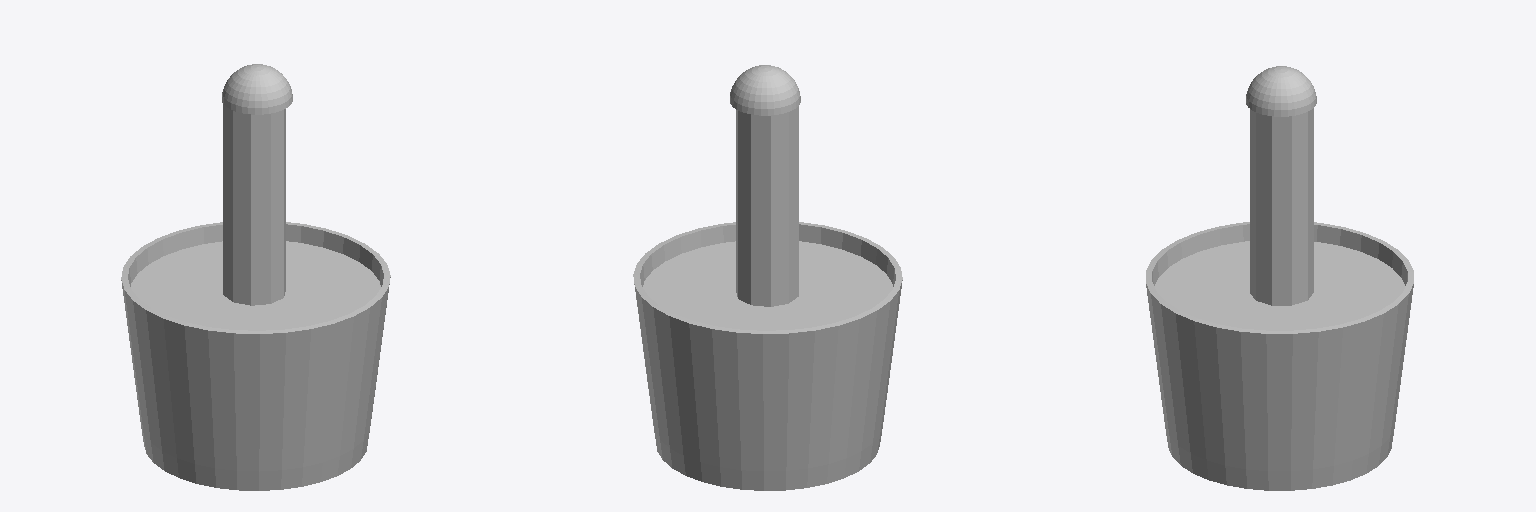
File: paparde.obj
3 renders of one model, left to right at view 1: azimuth 30°, elevation 25°; view 2: azimuth 150°, elevation 25°; view 3: azimuth 270°, elevation 25°, orthographic.
Visible parts, largest first — view 1: Cylinder.015_Cylinder.022, Cylinder.016_Cylinder.023, Sphere_Sphere.001; view 2: Cylinder.015_Cylinder.022, Cylinder.016_Cylinder.023, Sphere_Sphere.001; view 3: Cylinder.015_Cylinder.022, Cylinder.016_Cylinder.023, Sphere_Sphere.001.
Boxes of the visible parts, x1,y1,x2,y2 form: Cylinder.015_Cylinder.022: [121, 222, 390, 490]; Cylinder.016_Cylinder.023: [223, 104, 285, 305]; Sphere_Sphere.001: [222, 64, 292, 114]; Cylinder.015_Cylinder.022: [633, 222, 902, 490]; Cylinder.016_Cylinder.023: [736, 106, 798, 306]; Sphere_Sphere.001: [730, 65, 800, 115]; Cylinder.015_Cylinder.022: [1146, 222, 1413, 490]; Cylinder.016_Cylinder.023: [1250, 108, 1313, 305]; Sphere_Sphere.001: [1246, 66, 1316, 116].
Bounding box in the file's own units: 0.6078 × 0.9377 × 0.6078.